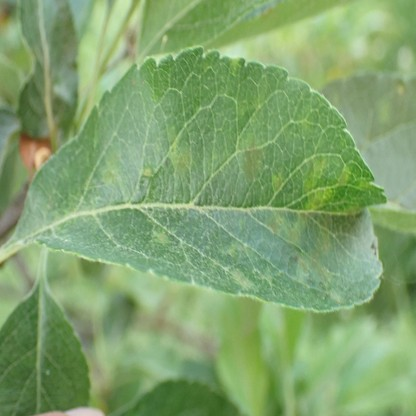powdery_mildew: (168, 230, 216, 285)
scab: (269, 211, 365, 279), (241, 140, 262, 182), (305, 160, 326, 191), (173, 143, 190, 173), (231, 269, 252, 288), (224, 242, 242, 255), (108, 149, 119, 167), (103, 169, 117, 183), (329, 290, 340, 305), (273, 175, 281, 190), (338, 171, 346, 184), (157, 233, 166, 243), (311, 196, 321, 205)
